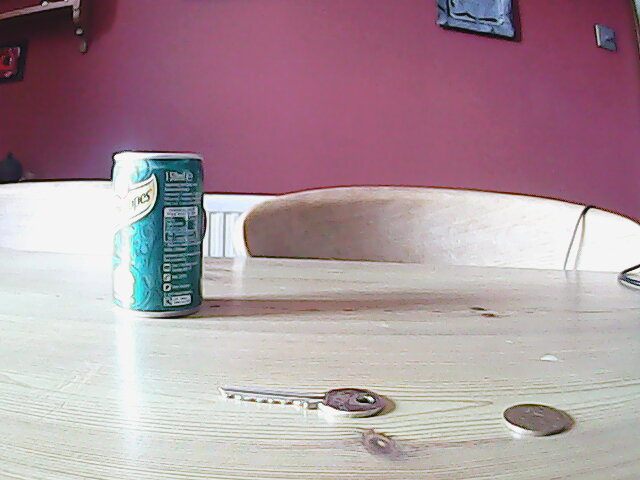Can: (104, 150, 212, 320)
Coin: (499, 400, 573, 438)
Key: (212, 381, 387, 422)
